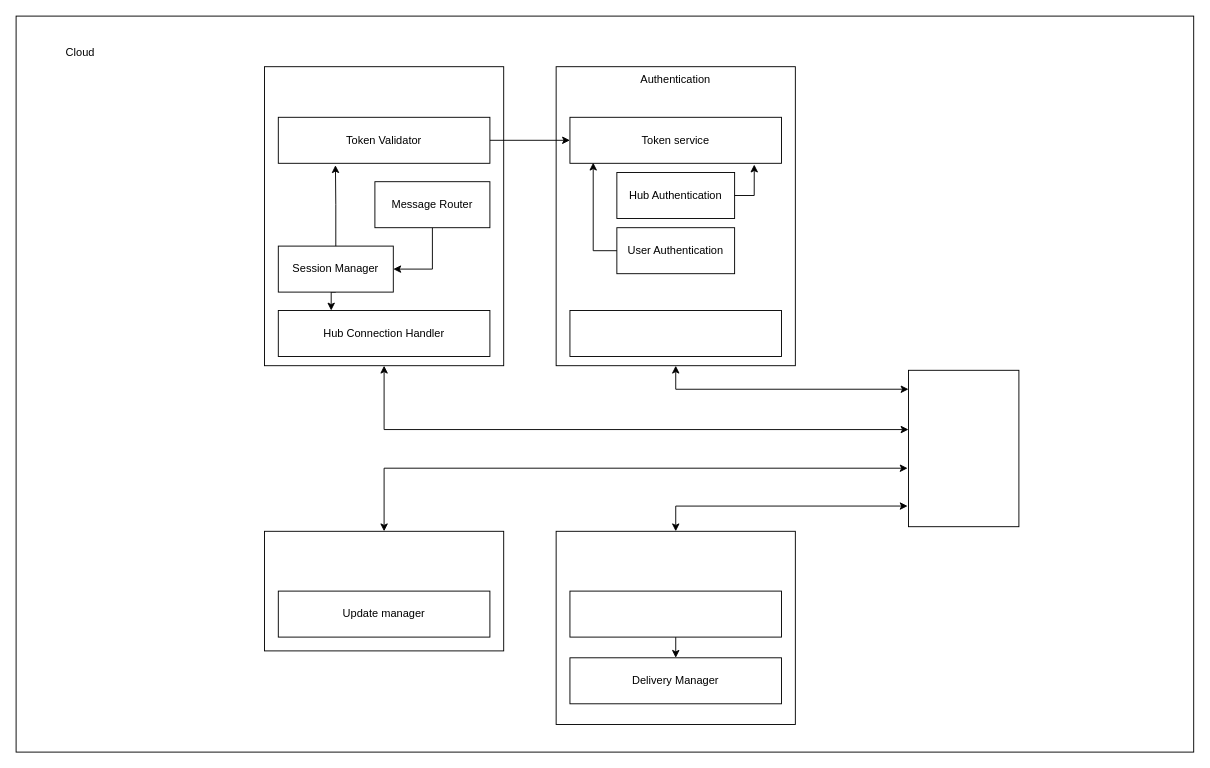
Image size: 1210x768. Some labels were removed from this diagram. The box of each missing label's shape, as (x1, y1, x2, y2) in pixels:
API gateway: (908, 369, 1019, 527)
Event Receiver: (569, 590, 782, 637)
Notification: (555, 530, 795, 724)
Remote Access: (264, 66, 504, 366)
System Management: (264, 530, 504, 651)
Third party account linking: (569, 310, 782, 356)
